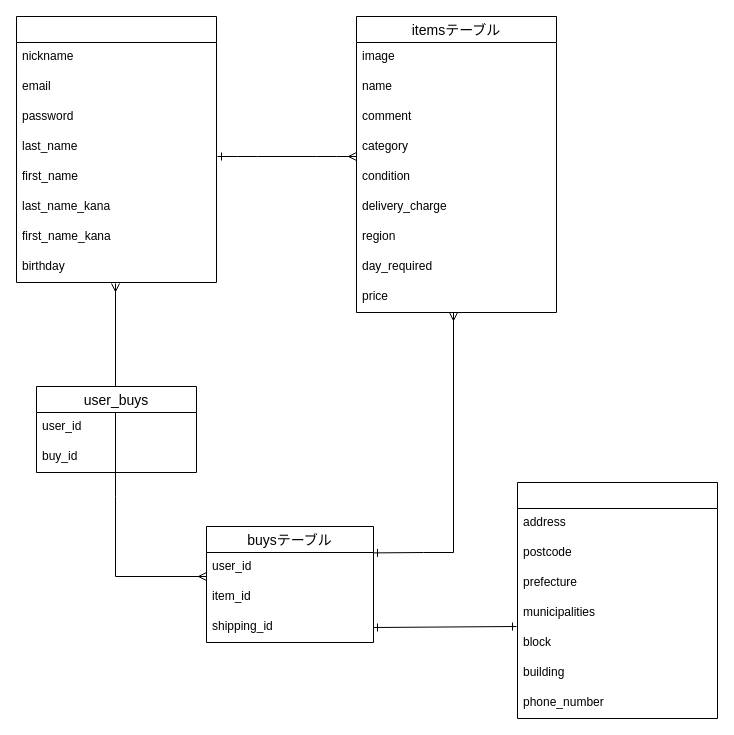
Some shapes in this 734 by 735 pixel diagram are drawn without their labels. Each missing label, with the box of its shape:
shipping_informationsテーブル: (516, 482, 718, 718)
usersテーブル: (16, 16, 216, 282)
